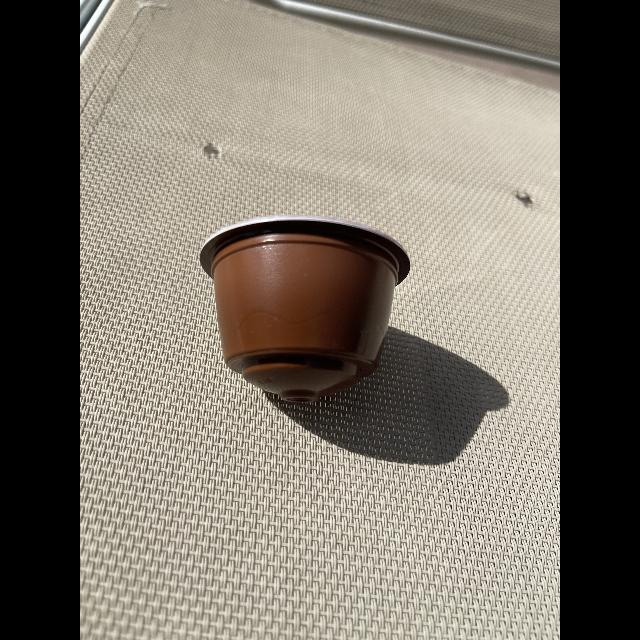intact_capsule: (186, 200, 418, 410)
